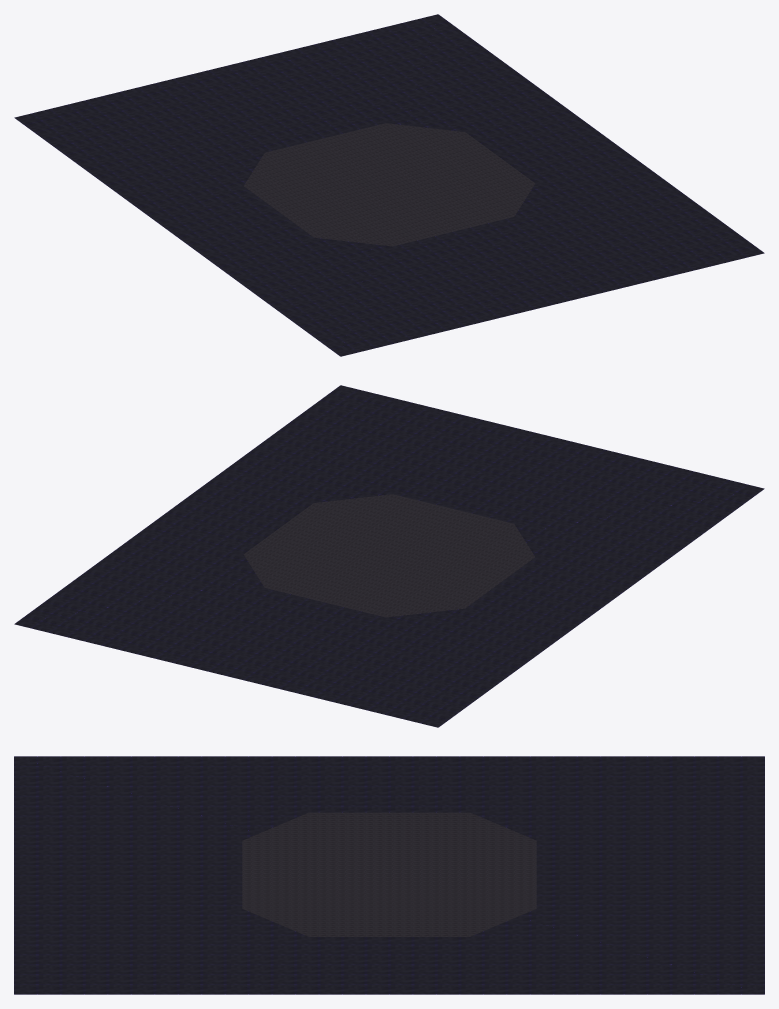
Rendered from kb_floor_v34.glb.
The picture shows the model from 3 angles, top to bottom: view 1: azimuth 30°, elevation 25°; view 2: azimuth 150°, elevation 25°; view 3: azimuth 270°, elevation 25°; orthographic projection. The views are drawn at different scales.
Visible parts, largest first — view 1: skin; view 2: skin; view 3: skin.
Part boxes in pixels (x1,y1,x2,y2): skin: (14, 14, 764, 356); skin: (14, 385, 764, 727); skin: (14, 756, 764, 994).
Size of the model in its own units: 240 by 0.35 by 320.
2 materials, 2 textured.
